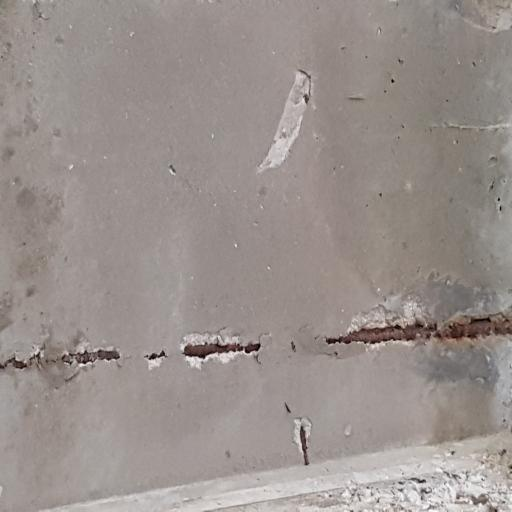exposed_rebar: (326, 318, 492, 345), (184, 343, 260, 359), (2, 347, 45, 369), (61, 348, 120, 364), (300, 427, 310, 467), (146, 350, 167, 361), (498, 320, 512, 334)
spalling: (326, 296, 512, 344), (257, 70, 311, 172), (182, 328, 261, 368), (293, 417, 312, 464)
